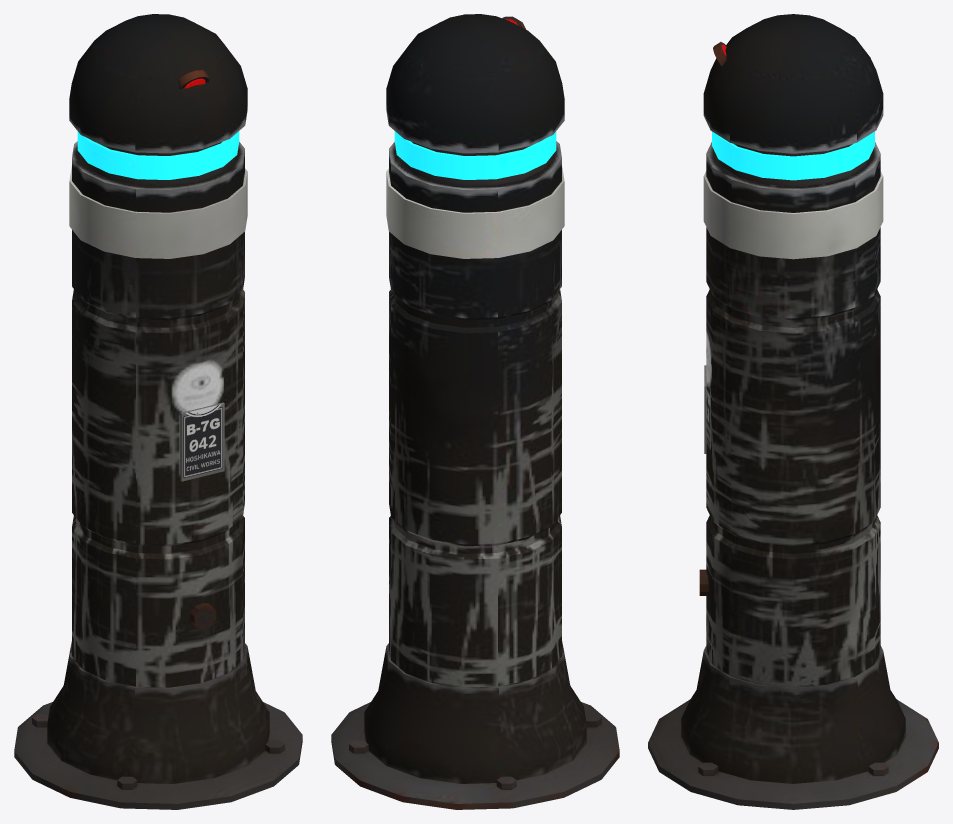
The model's file is bollard.glb.
3 views of the same model, side by side, from view 1: azimuth 30°, elevation 25°; view 2: azimuth 150°, elevation 25°; view 3: azimuth 270°, elevation 25° (orthographic).
Parts seen in each view (by area): view 1: bollard; view 2: bollard; view 3: bollard.
Boxes of the visible parts, left/top/right/bottom form: bollard: left=14, top=14, right=302, bottom=809; bollard: left=331, top=14, right=619, bottom=809; bollard: left=648, top=14, right=938, bottom=809.
Size of what is drawn, in the model's own units: 0.35 by 0.96 by 0.35.
Materials: 1 (1 with a texture image).
